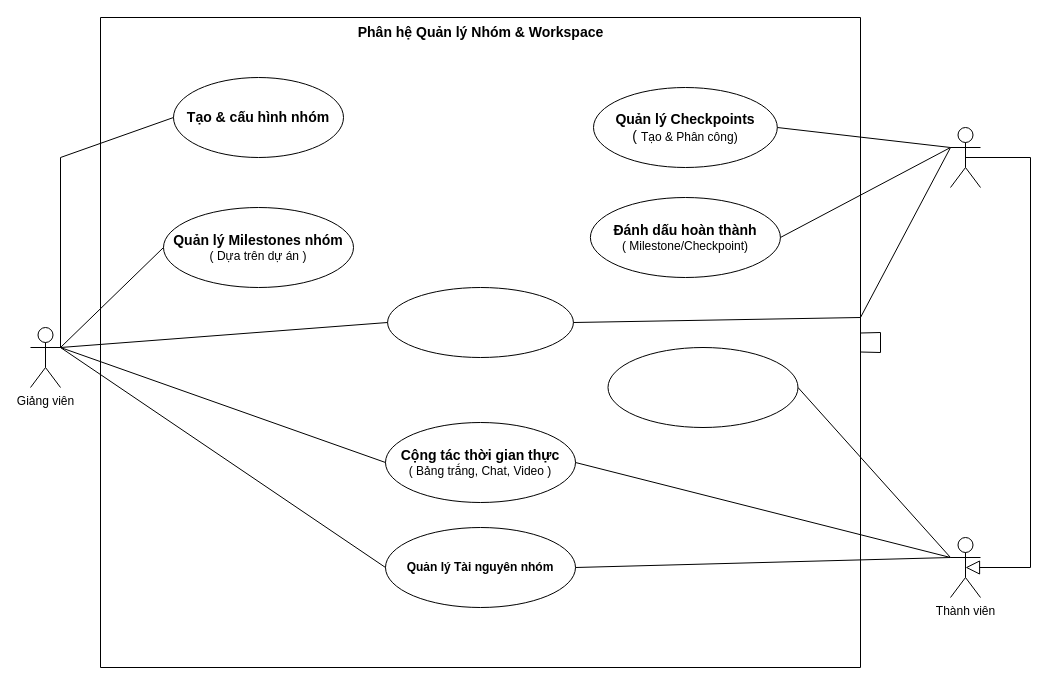
This 1062x685 diagram has some shape labels left out. Each missing label, with the box of its shape:
Giám sát tiến độ & Đóng góp: (387, 286, 573, 358)
Nhóm trưởng: (950, 126, 980, 188)
Quản lý Task & Sprints ( Thẻ công việc ): (607, 346, 798, 428)
